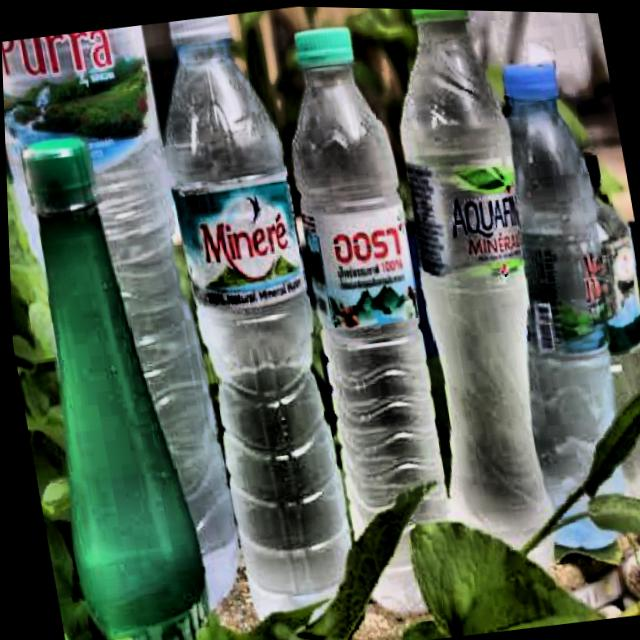Bottles: (118, 4, 387, 637), (351, 6, 601, 607), (257, 4, 459, 564), (452, 33, 640, 583)
